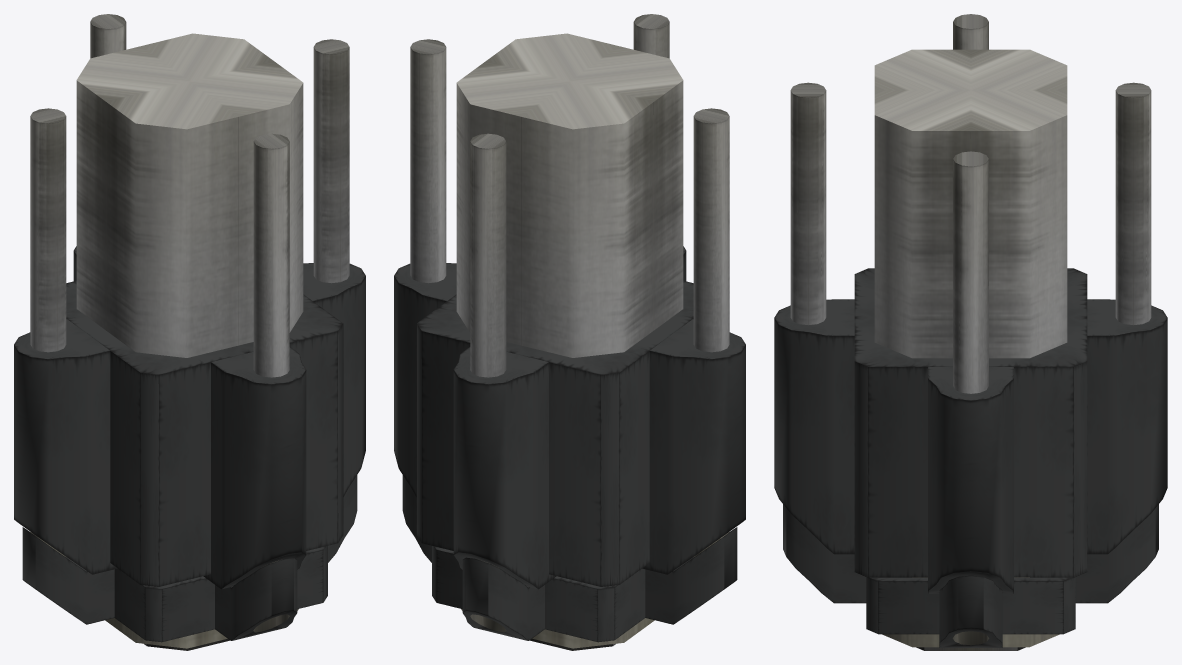
Rendered from stamp.fbx.
3 renders of one model, left to right at view 1: azimuth 30°, elevation 25°; view 2: azimuth 150°, elevation 25°; view 3: azimuth 270°, elevation 25°, orthographic.
Parts seen in each view (by area): view 1: stamp, stampbase; view 2: stamp, stampbase; view 3: stamp, stampbase.
Boxes of the visible parts, x1,y1,x2,y2 form: stamp: [22, 14, 357, 650]; stampbase: [14, 246, 365, 589]; stamp: [402, 14, 737, 650]; stampbase: [394, 246, 745, 589]; stamp: [783, 14, 1158, 650]; stampbase: [774, 268, 1167, 593].
Bounding box in the file's own units: 134 × 198 × 134.
